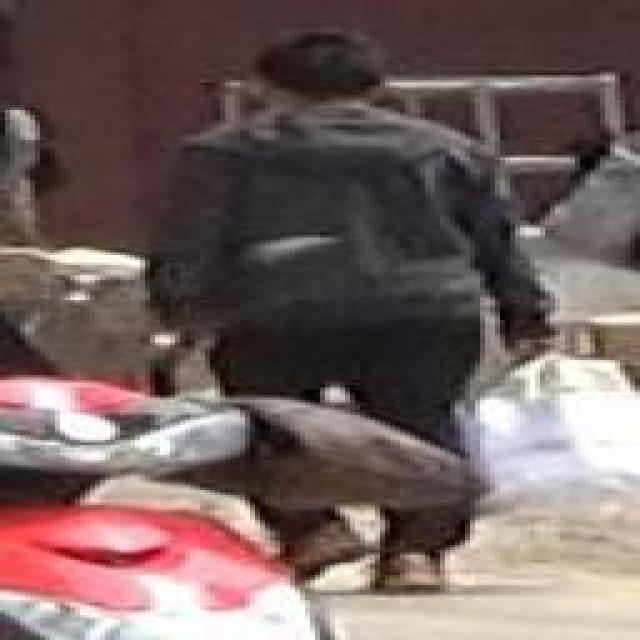adult: (110, 24, 580, 582)
